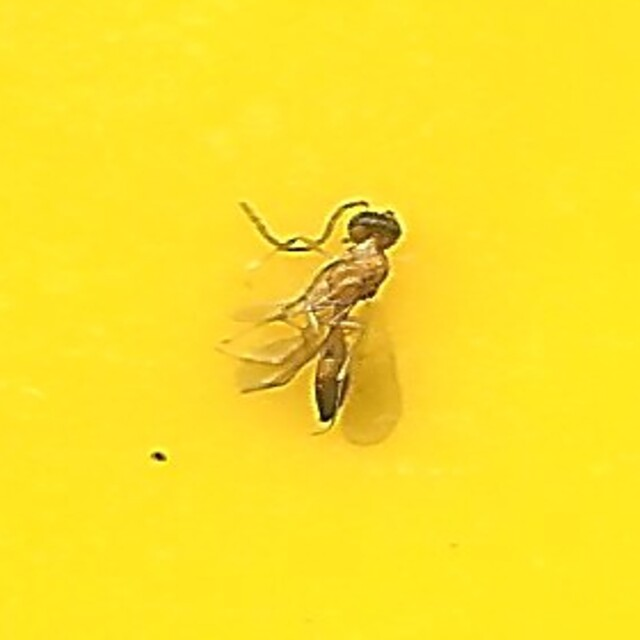Hymenoptera: (229, 196, 411, 444)
